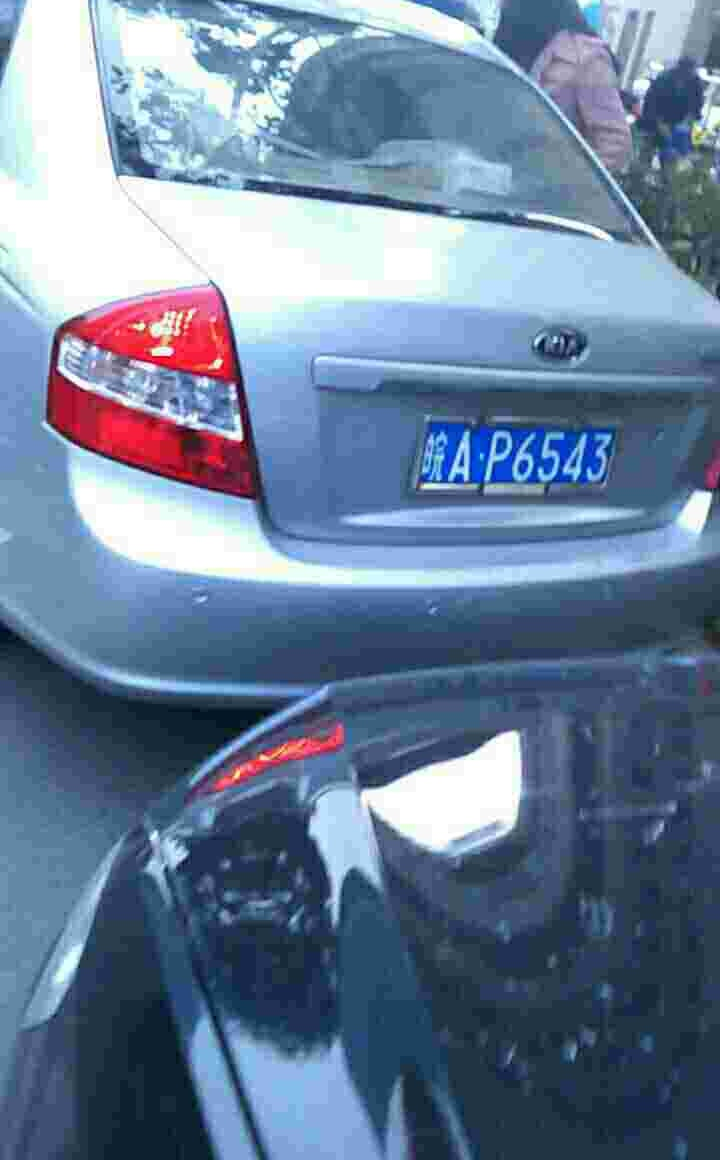license_plate: (424, 421, 613, 488)
